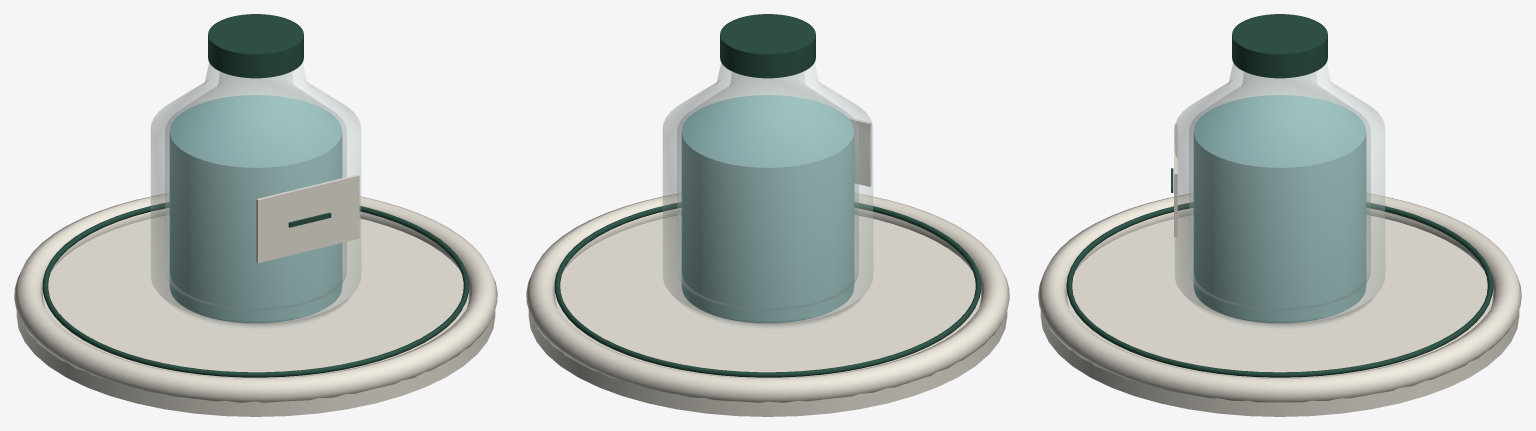
The model's file is water-small.glb.
3 renders of one model, left to right at view 1: azimuth 30°, elevation 25°; view 2: azimuth 150°, elevation 25°; view 3: azimuth 270°, elevation 25°, orthographic.
Visible parts, largest first — view 1: Morsel original water small; view 2: Morsel original water small; view 3: Morsel original water small.
Part boxes in pixels (x1,y1,x2,y2): Morsel original water small: (14,14,497,416); Morsel original water small: (526,14,1009,416); Morsel original water small: (1038,14,1521,416).
Bounding box in the file's own units: 2.02 × 1.3 × 2.02.
